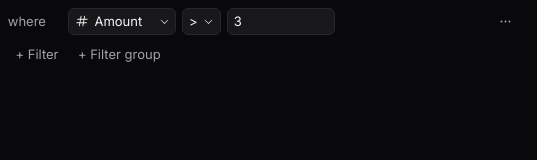
Test: FilterEditor › a number being typed (1., -, 1e) keeps the last value; leaving shows the value applied
Replace the text in the field named "Value" with "1.". click: point(281, 21)
box: [227,8,336,35]
Type "5" into the field named "Value". click: point(281, 21)
box: [227,8,336,35]
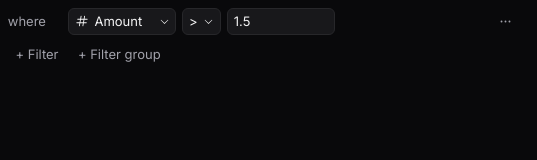
Type "-" into the field named "Value". click: point(281, 21)
box: [227,8,336,35]
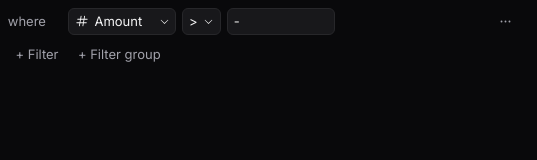
Type "2e" into the field named "Value". click: point(281, 21)
box: [227,8,336,35]
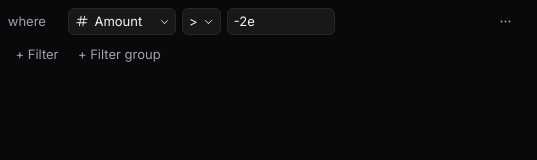
expect the field named "Value" holds "-2e": met
Type "1" into the field named "Value". click: point(281, 21)
box: [227,8,336,35]
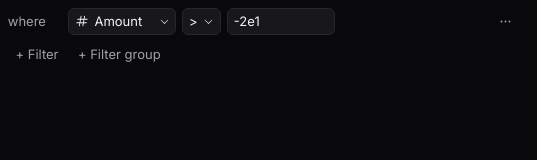
Type "e" into the field named "Value". click: point(281, 21)
box: [227,8,336,35]
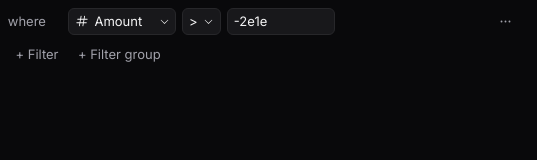
Press Tab
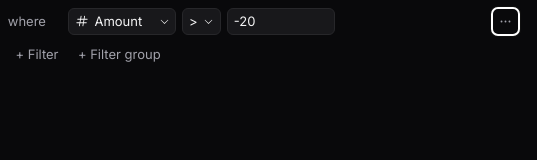
expect the field named "Value" holds "-20": met, box [227,8,336,35]
